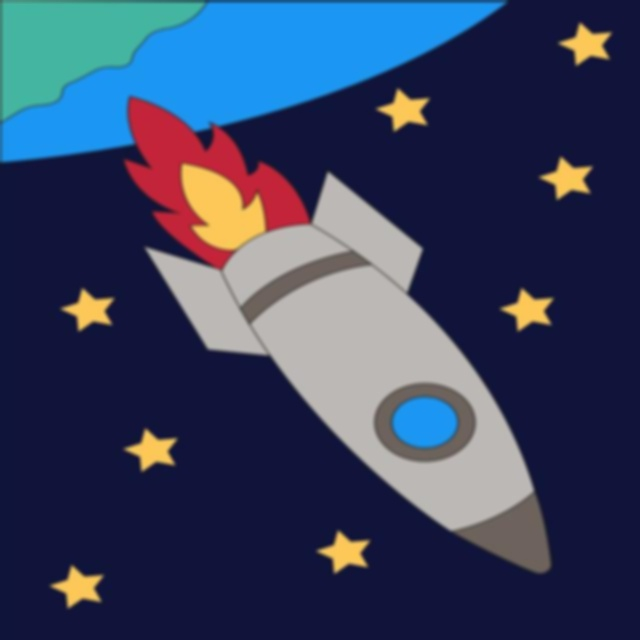medium_debris: (125, 98, 310, 266)
